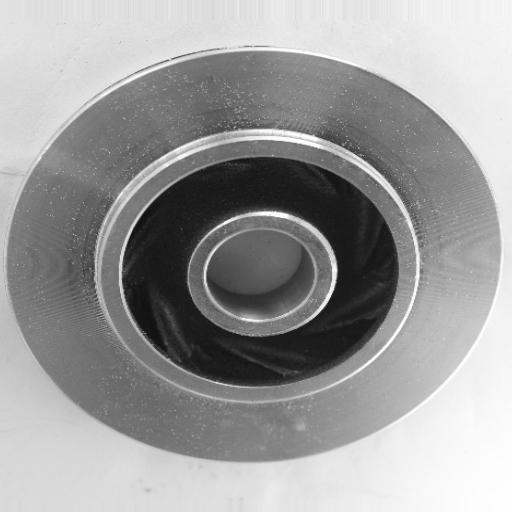polished_casting: (12, 45, 502, 469)
